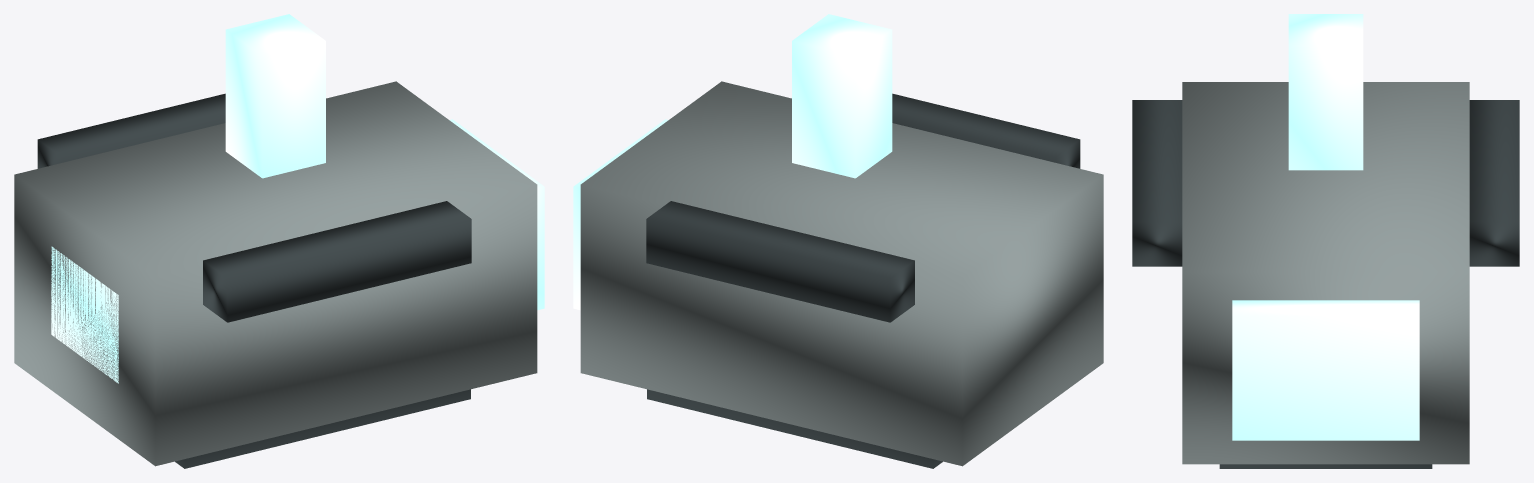
File: pickup-recovery-capsule-lod1.glb
3 views of the same model, side by side, from view 1: azimuth 30°, elevation 25°; view 2: azimuth 150°, elevation 25°; view 3: azimuth 270°, elevation 25° (orthographic).
Parts seen in each view (by area): view 1: pickup-recovery-shell, pickup-recovery-rail-left, pickup-recovery-beacon, pickup-recovery-tag, pickup-recovery-rail-right, pickup-recovery-skid, pickup-recovery-core; view 2: pickup-recovery-shell, pickup-recovery-rail-right, pickup-recovery-beacon, pickup-recovery-rail-left, pickup-recovery-skid, pickup-recovery-core; view 3: pickup-recovery-shell, pickup-recovery-core, pickup-recovery-beacon, pickup-recovery-rail-left, pickup-recovery-rail-right, pickup-recovery-skid.
Part boxes in pixels (x1,y1,x2,y2): pickup-recovery-shell: (14,81,537,466); pickup-recovery-rail-left: (203,201,471,322); pickup-recovery-beacon: (225,14,325,178); pickup-recovery-tag: (51,246,118,383); pickup-recovery-rail-right: (37,93,225,168); pickup-recovery-skid: (175,389,470,468); pickup-recovery-core: (449,119,544,310); pickup-recovery-shell: (580,81,1103,466); pickup-recovery-rail-right: (646,201,914,322); pickup-recovery-beacon: (792,14,892,178); pickup-recovery-rail-left: (892,93,1080,168); pickup-recovery-skid: (647,389,942,468); pickup-recovery-core: (573,119,668,310); pickup-recovery-shell: (1182,82,1469,464); pickup-recovery-core: (1232,300,1419,440); pickup-recovery-beacon: (1288,14,1363,170); pickup-recovery-rail-left: (1132,100,1182,266); pickup-recovery-rail-right: (1469,100,1519,266); pickup-recovery-skid: (1219,464,1432,468).
Size of the model in its own units: 0.78 by 0.65 by 0.62.
